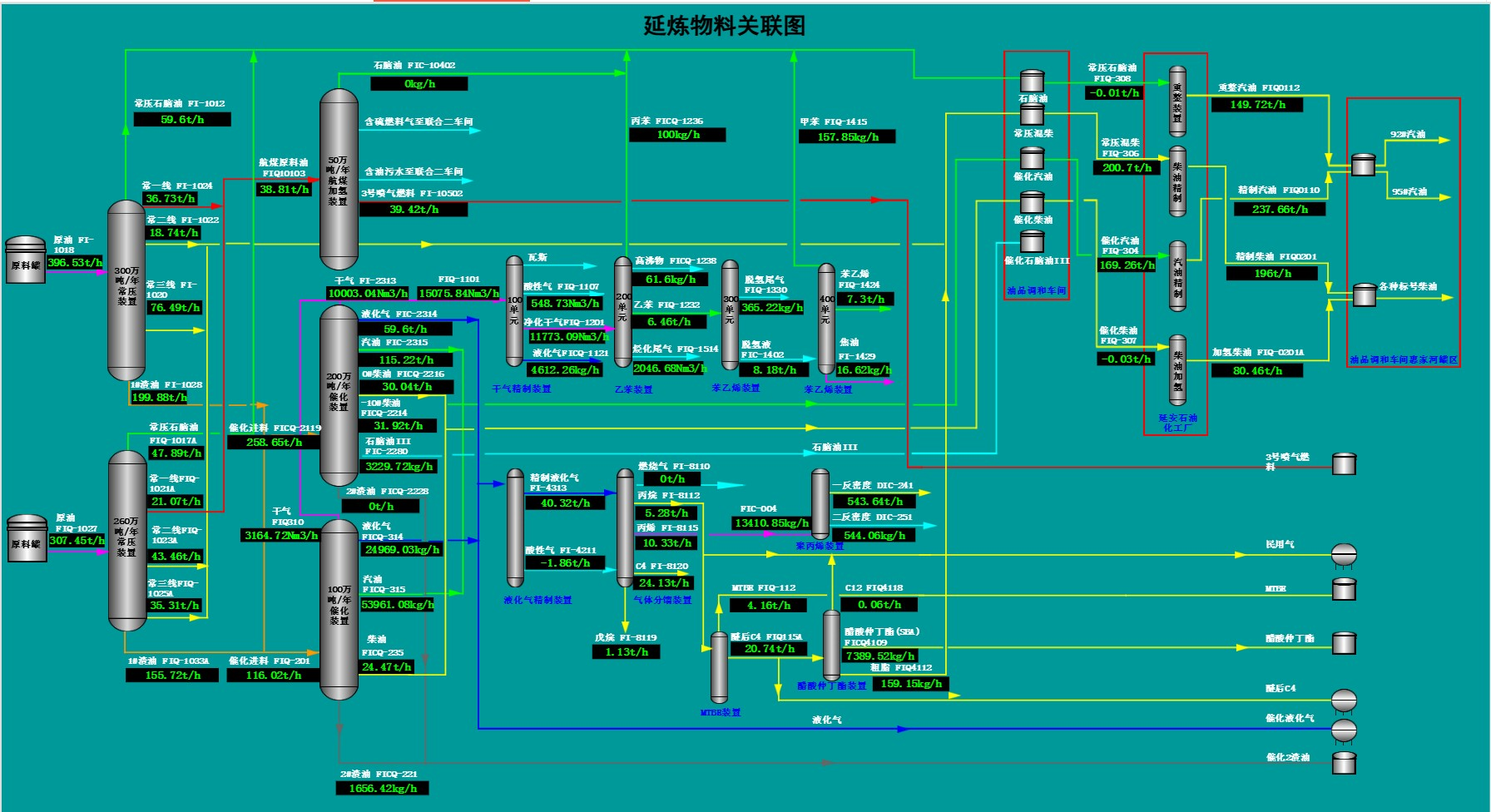text: (132, 94, 231, 111), (146, 418, 202, 447), (146, 576, 203, 602), (129, 374, 206, 392), (149, 523, 206, 547), (48, 230, 99, 256), (140, 177, 216, 194), (145, 276, 201, 299), (147, 473, 205, 495), (52, 511, 102, 533), (146, 212, 221, 226)
